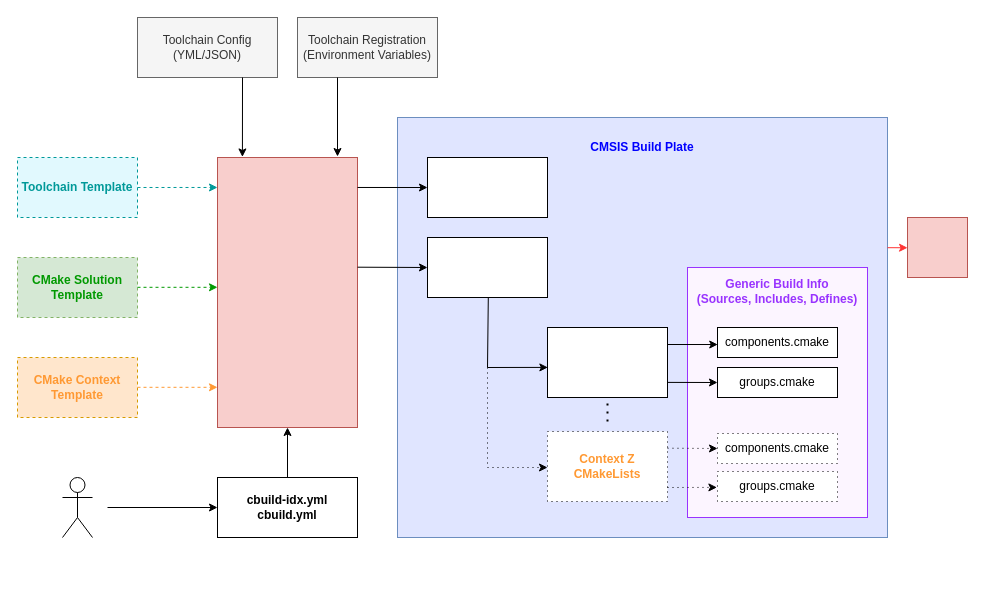
Image size: 985x591. Some labels were removed from this diagram. The centre of each missing label's shape, as x and y in pixels:
<toolchain>.cmake: pixel 487 187
Artifacts: pixel 937 247
CMakeLists Generator Tool: pixel 287 292
Context A CMakeLists: pixel 607 362
Normal use case: user's csolution: pixel 77 507
Solution CMakeLists: pixel 487 267
